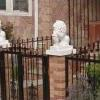Statue: (39, 13, 83, 71)
